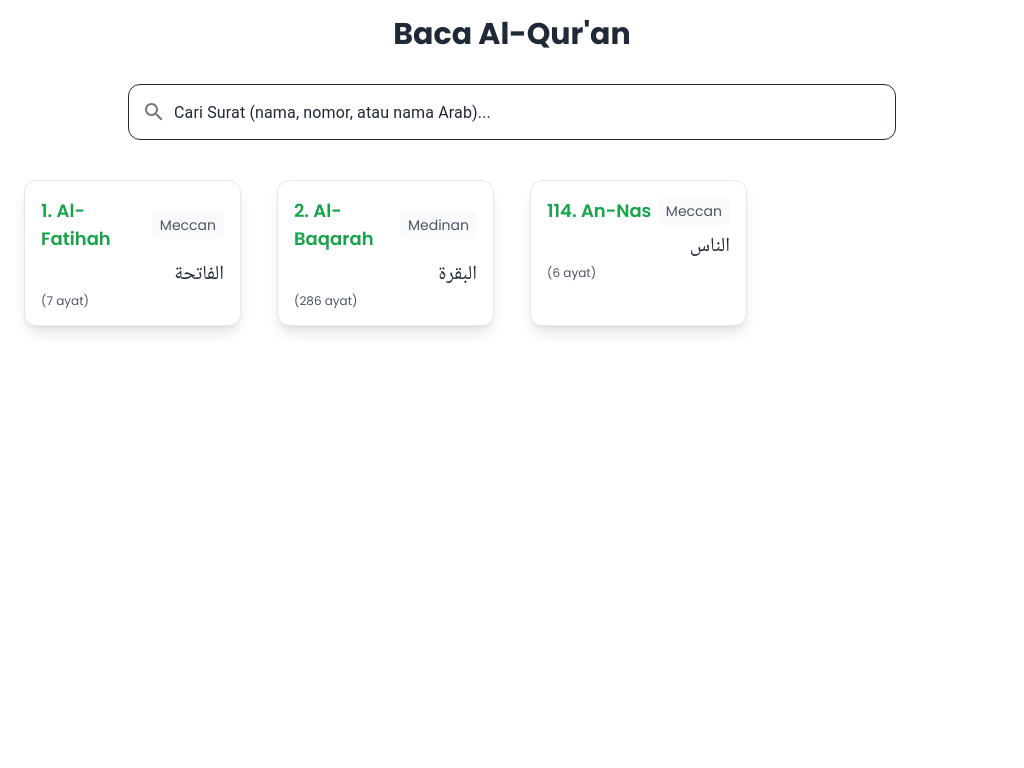
Quran Page › selects a surah and displays its verses
Click on Al-Fatihah card
Click the heading "1. Al-Fatihah". click: (76,224)
box: 41,198 -> 111,251
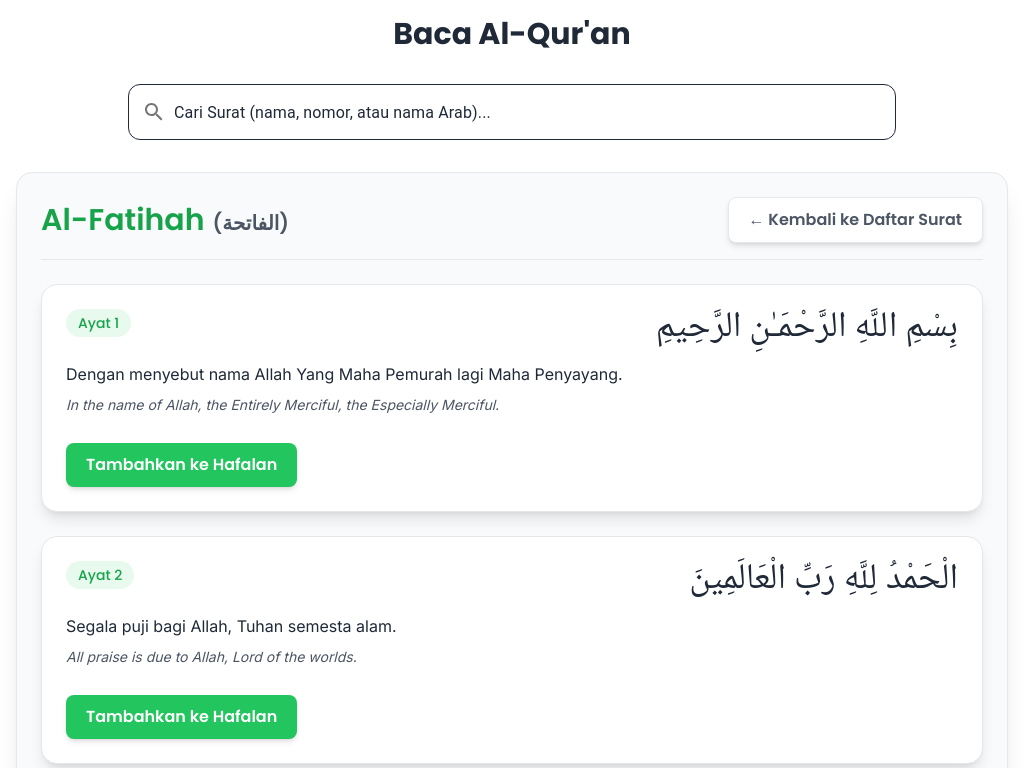
Result: the text "بِسْمِ اللَّهِ الرَّحْمَـٰنِ الرَّحِيمِ" is shown at 656,309 -> 958,349
Result: the text "Dengan menyebut nama Allah Yang Maha Pemurah lagi Maha Penyayang." is shown at 66,364 -> 623,384
Result: the text "الْحَمْدُ لِلَّهِ رَبِّ الْعَالَمِينَ" is shown at 689,561 -> 958,601
